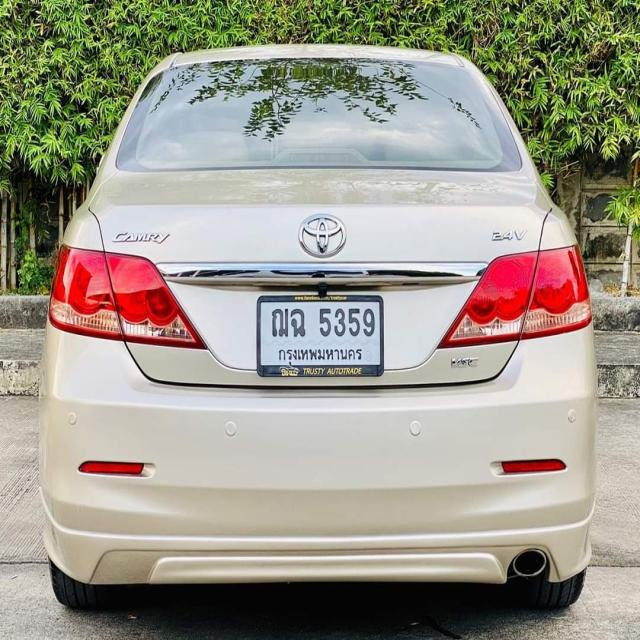license_plate: (255, 294, 384, 378)
